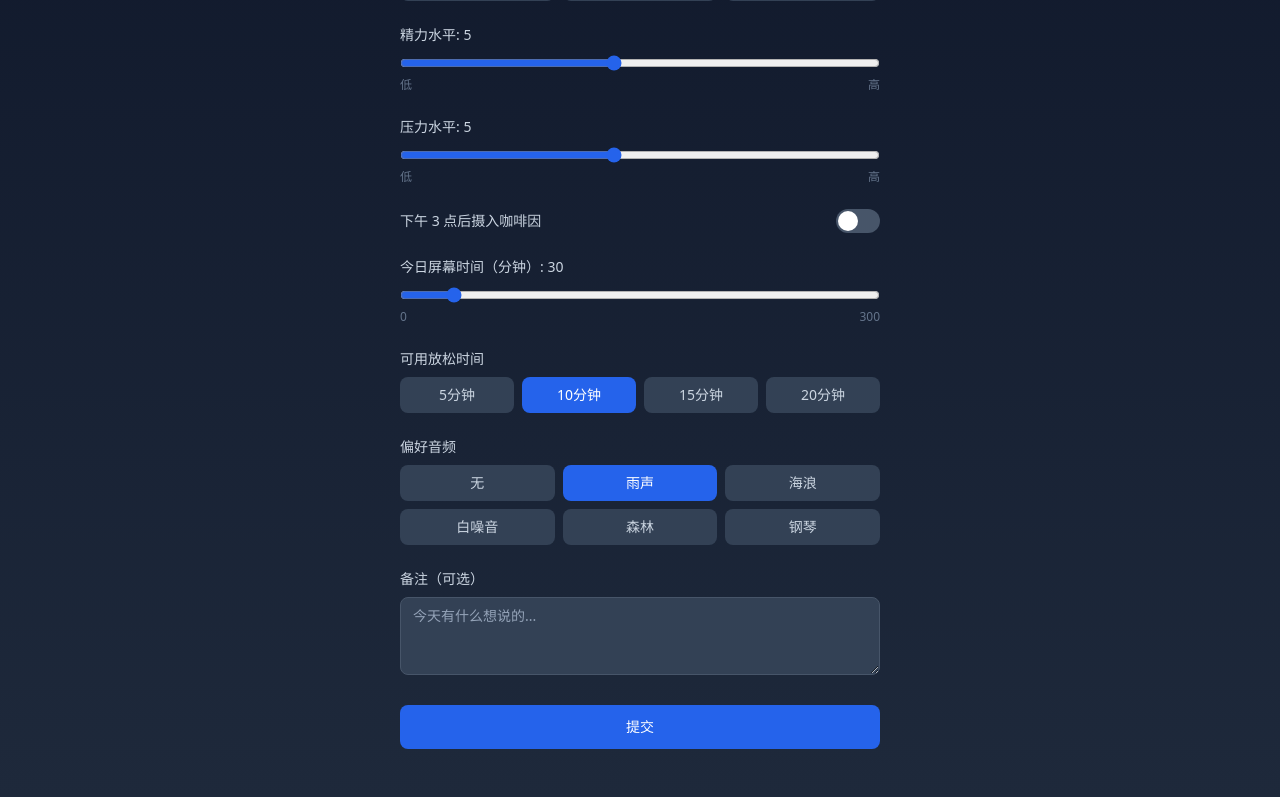
Test case: Checkin Page › shows analysis result after successful submit
(page scrolled)
Click the button "提交": click(640, 727) x1=400 y1=705 x2=880 y2=749
(page scrolled)
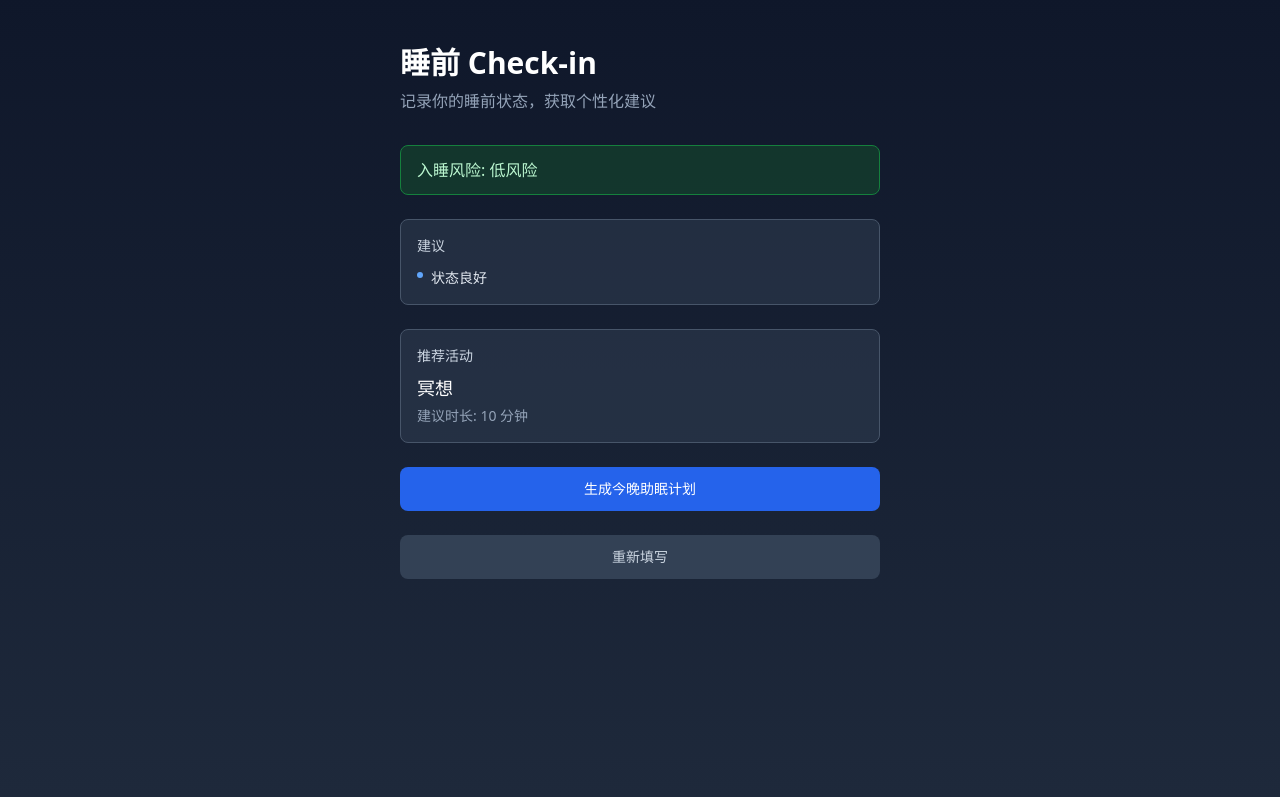
Check: the text "入睡风险: 低风险" is shown, box x1=417 y1=159 x2=538 y2=181
Check: the list item "状态良好" is shown, box x1=417 y1=268 x2=487 y2=287
Check: the text "冥想" is shown, box x1=417 y1=376 x2=453 y2=400
